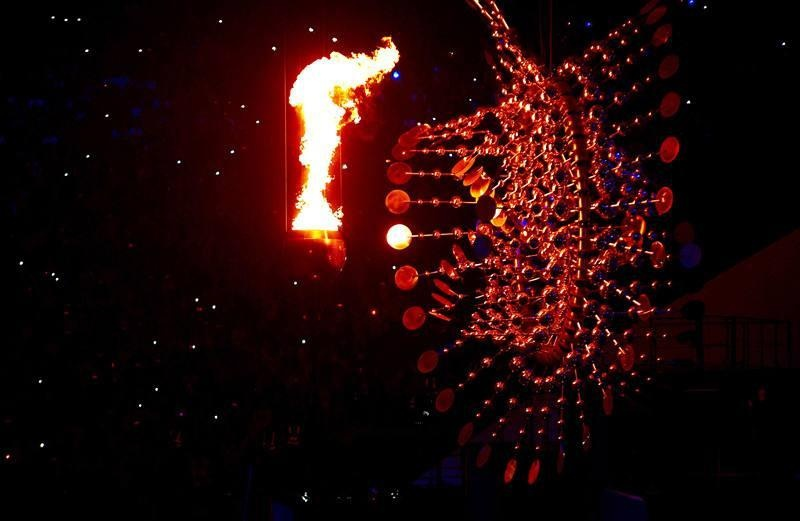fire: (289, 32, 401, 236)
